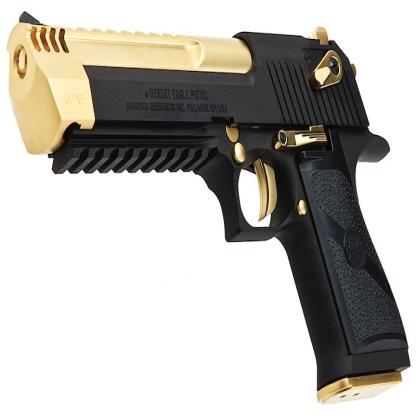handgun: (9, 12, 413, 406)
